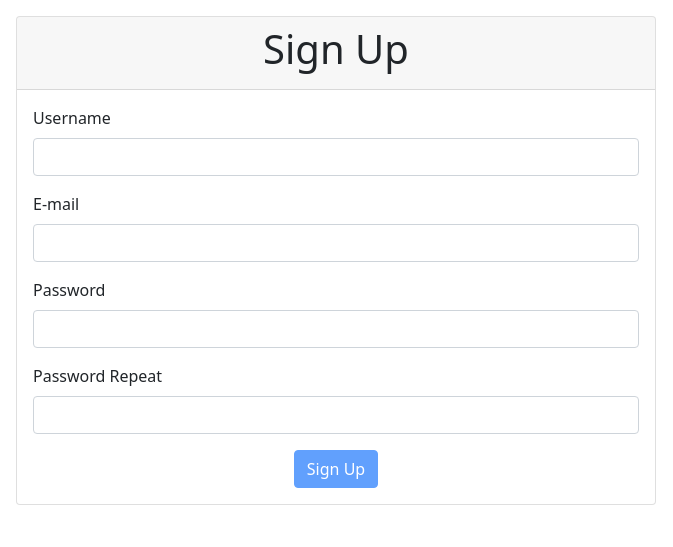
Test: >SignUp Page › Interactions › should displays E-mail cannot be null for email
Type "user1" into the field labelled "Username" at (336, 157), box [33,138,639,176]
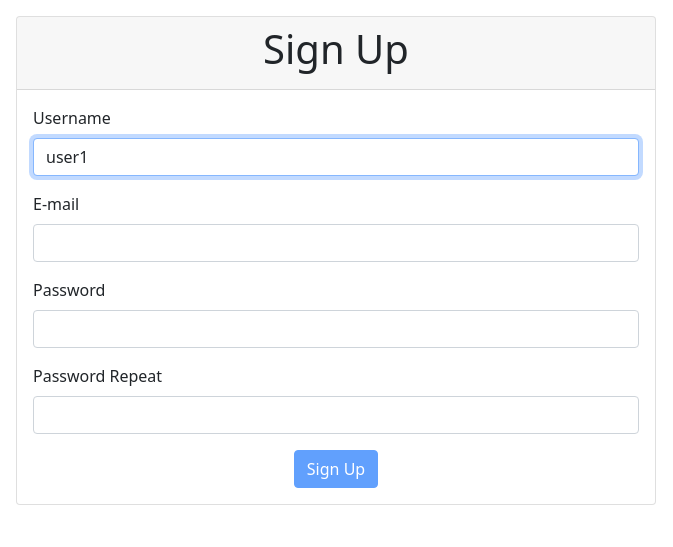
Type "user1@mail.com" into the field labelled "E-mail" at (336, 243), box [33,224,639,262]
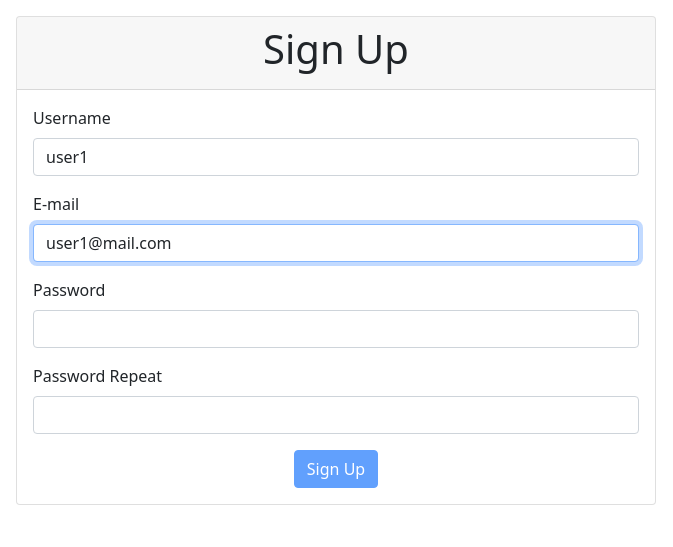
Type "Password" into the password field labelled "Password" at (336, 329), box [33,310,639,348]
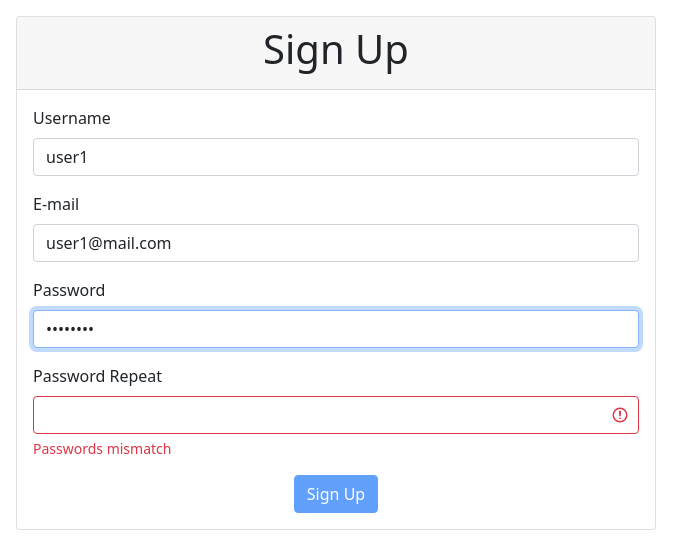
Type "Password" into the password field labelled "Password Repeat" at (336, 415), box [33,396,639,434]
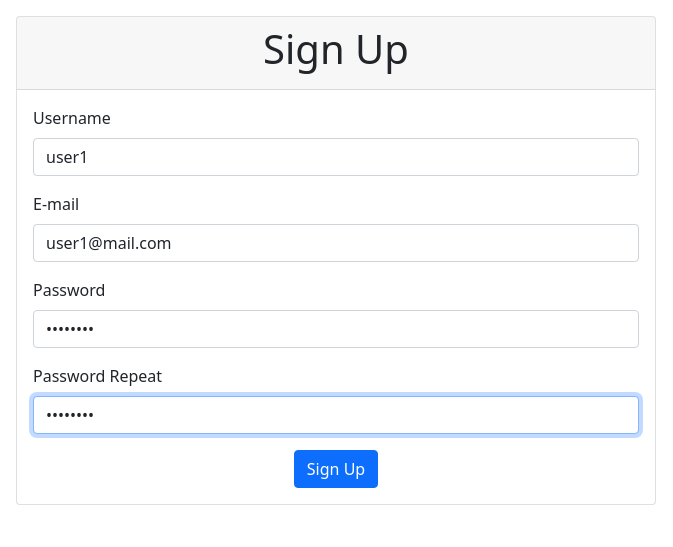
Click the button "Sign Up" at (336, 469), box [294,450,378,488]
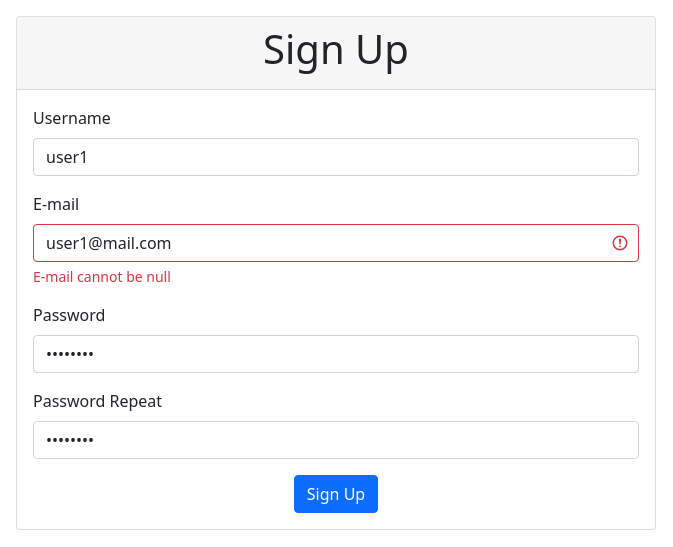
Result: the text "E-mail cannot be null" is shown at [33,267,171,286]
